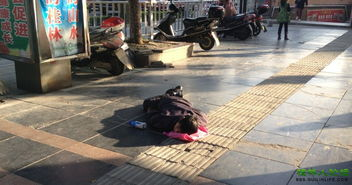fall: (125, 78, 216, 143)
